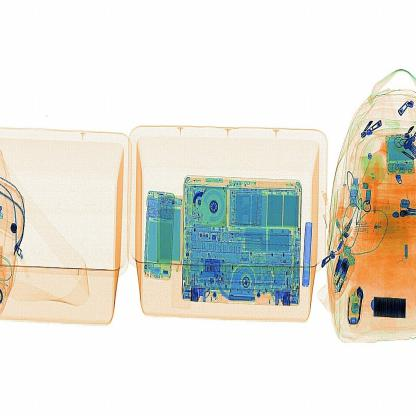pliers: (298, 223, 318, 294)
